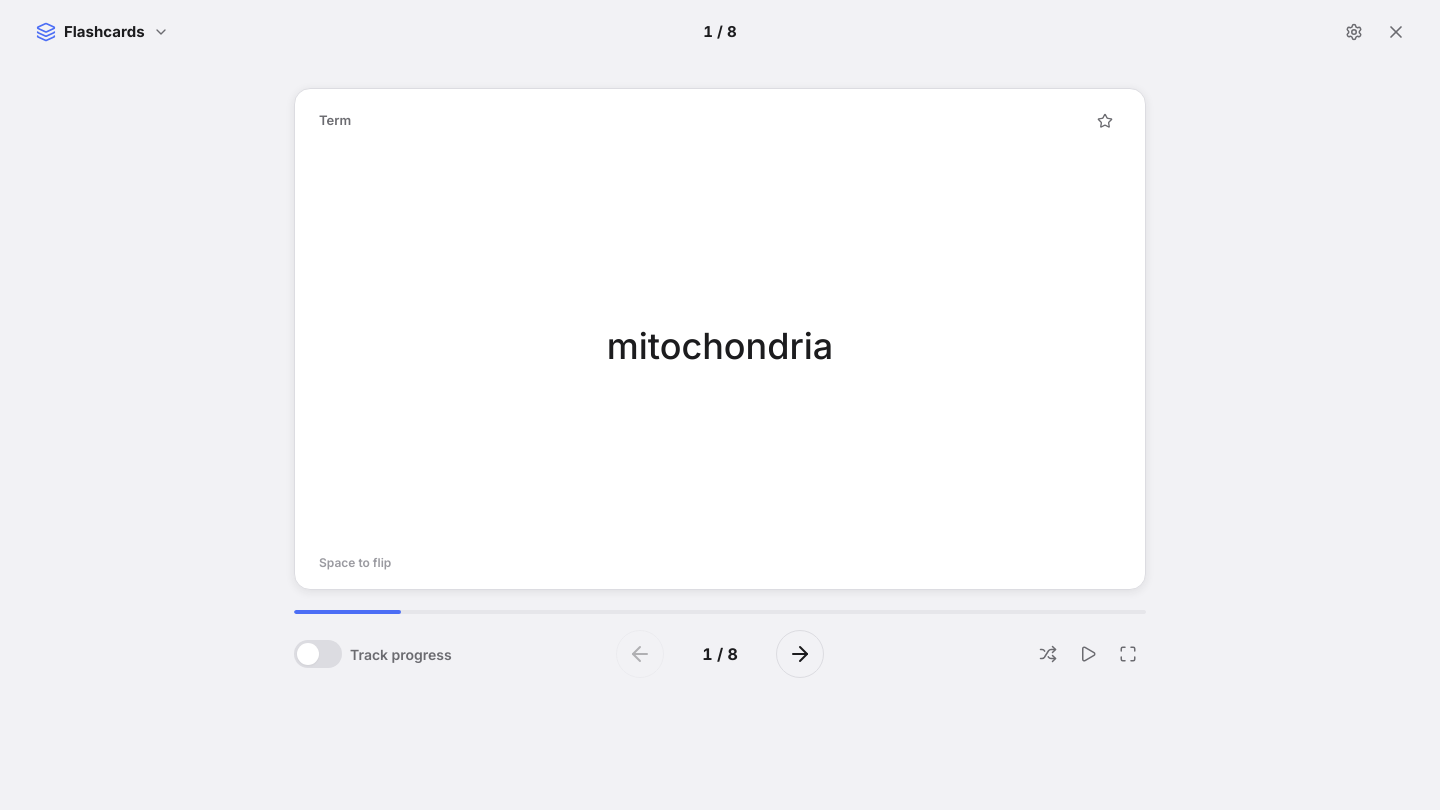
Test: Flashcards › flips with Space, advances with arrows, and sorts when tracking
This screenshot has width=1440, height=810.
Step 1. Press Space
Step 2. Press ArrowRight
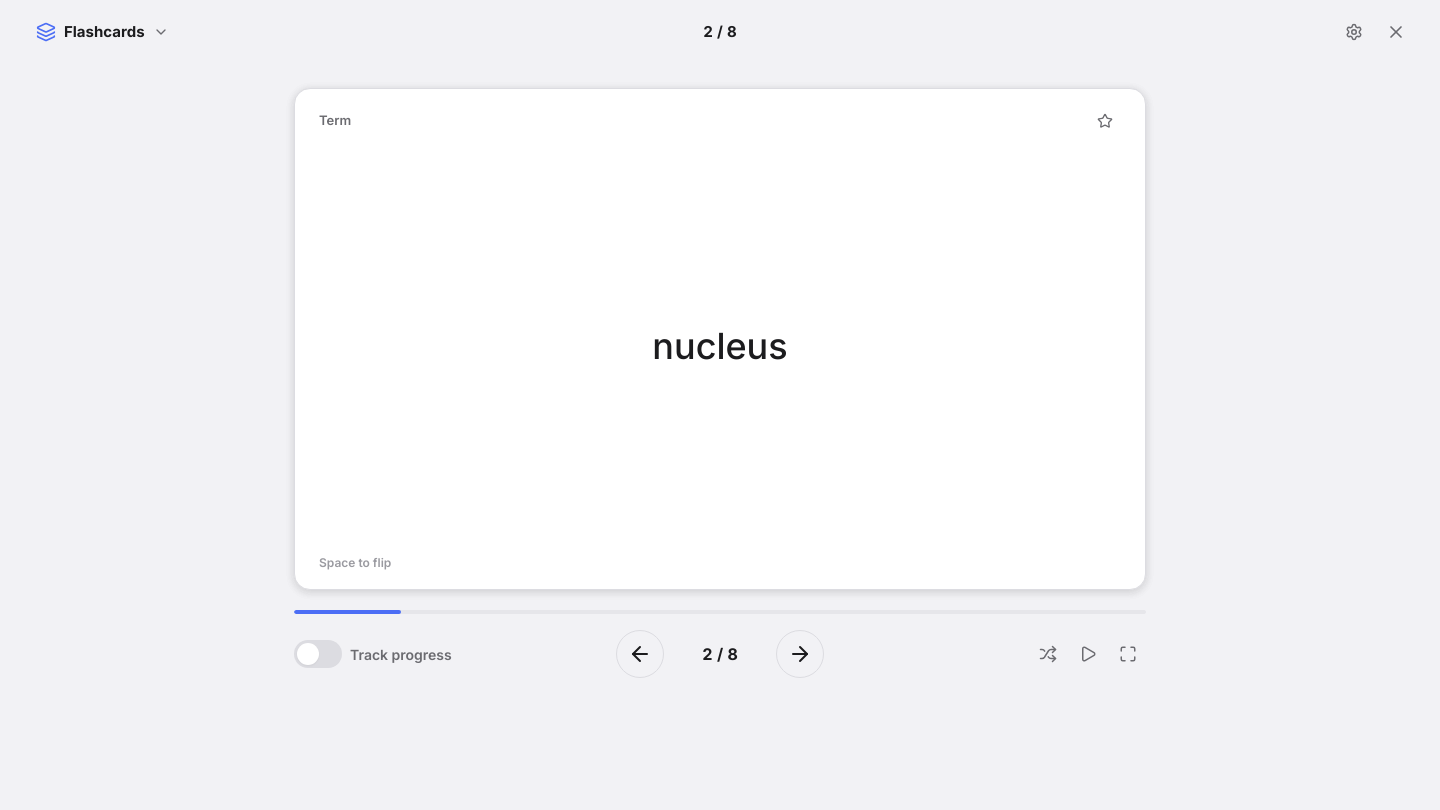
Expected: the 1st text "2 / 8" is shown, [703,21,737,43]
Step 3. Click the switch named "Track progress" → (318, 654), box [294,640,342,668]
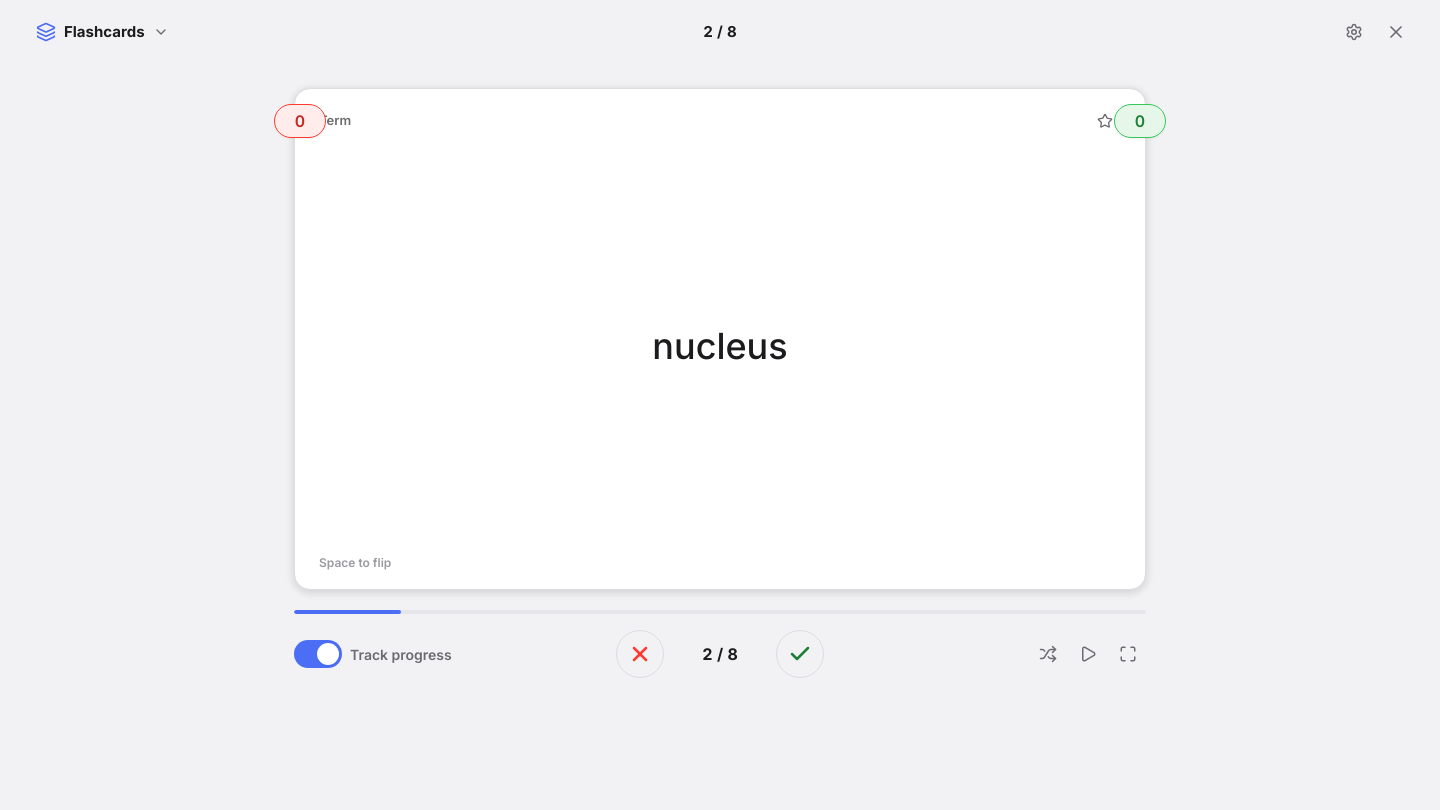
Step 4. Press ArrowRight
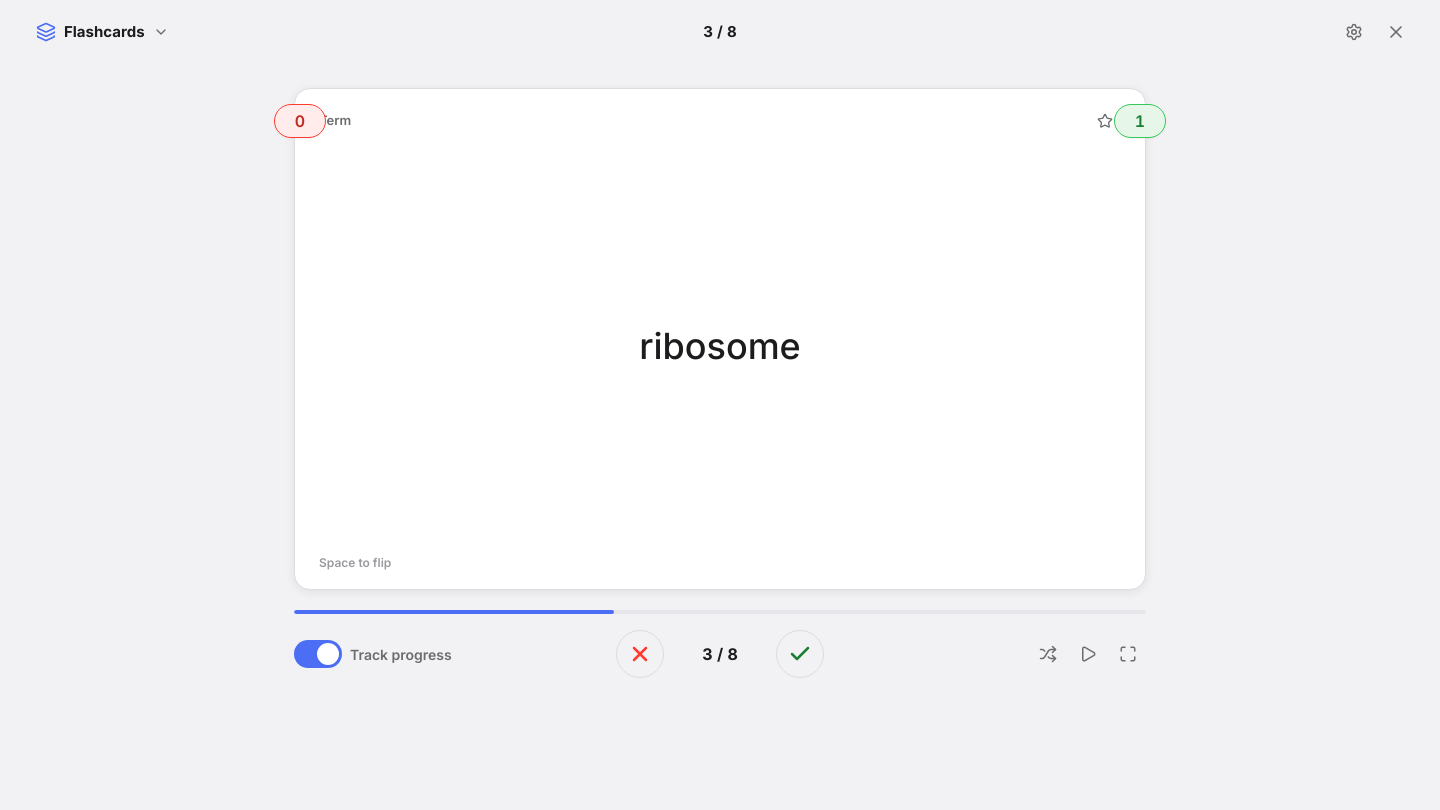
Expected: the message named "Know: 1" is shown, [1114,104,1166,138]
Step 5. Click the button named "Still learning" → (640, 654), box [616,630,664,678]
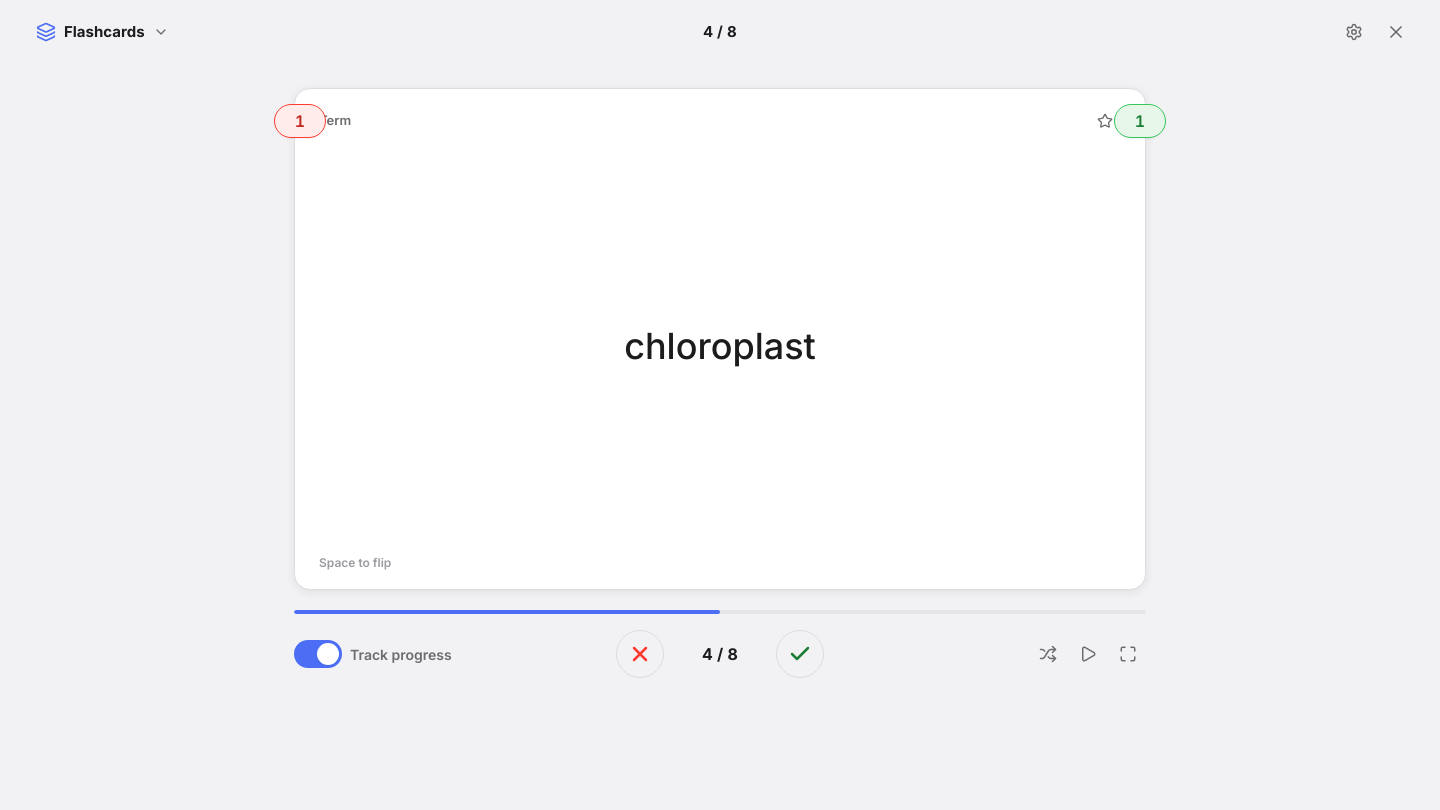
Expected: the message named "Still learning: 1" is shown, [274,104,326,138]
